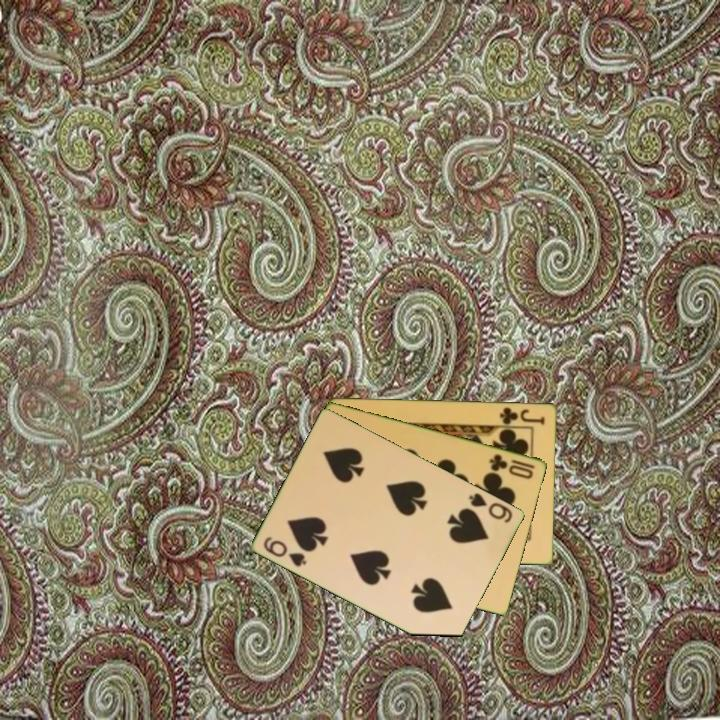10c: (486, 450, 538, 482)
6s: (466, 489, 516, 526), (260, 533, 310, 570)
Jc: (497, 403, 548, 427)
